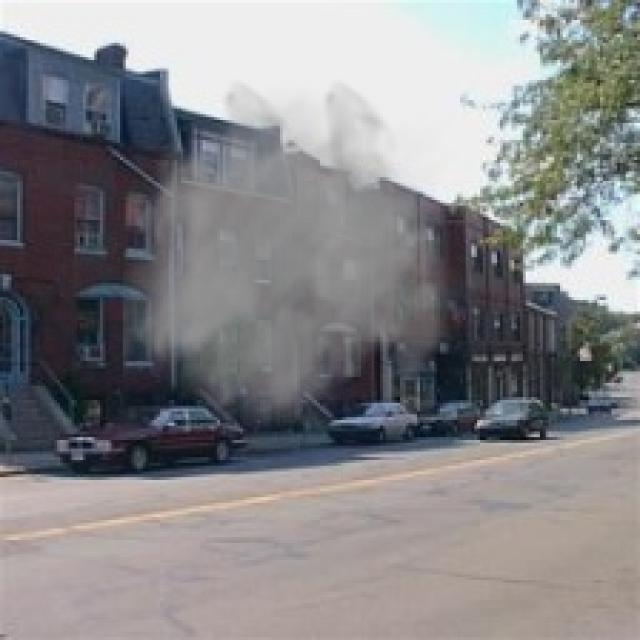Smoke: (123, 77, 480, 437)
